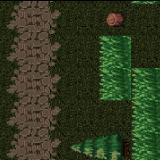Obstacle: (100, 2, 132, 34), (100, 130, 131, 160)
Slow: (131, 67, 160, 160), (100, 35, 132, 100)
